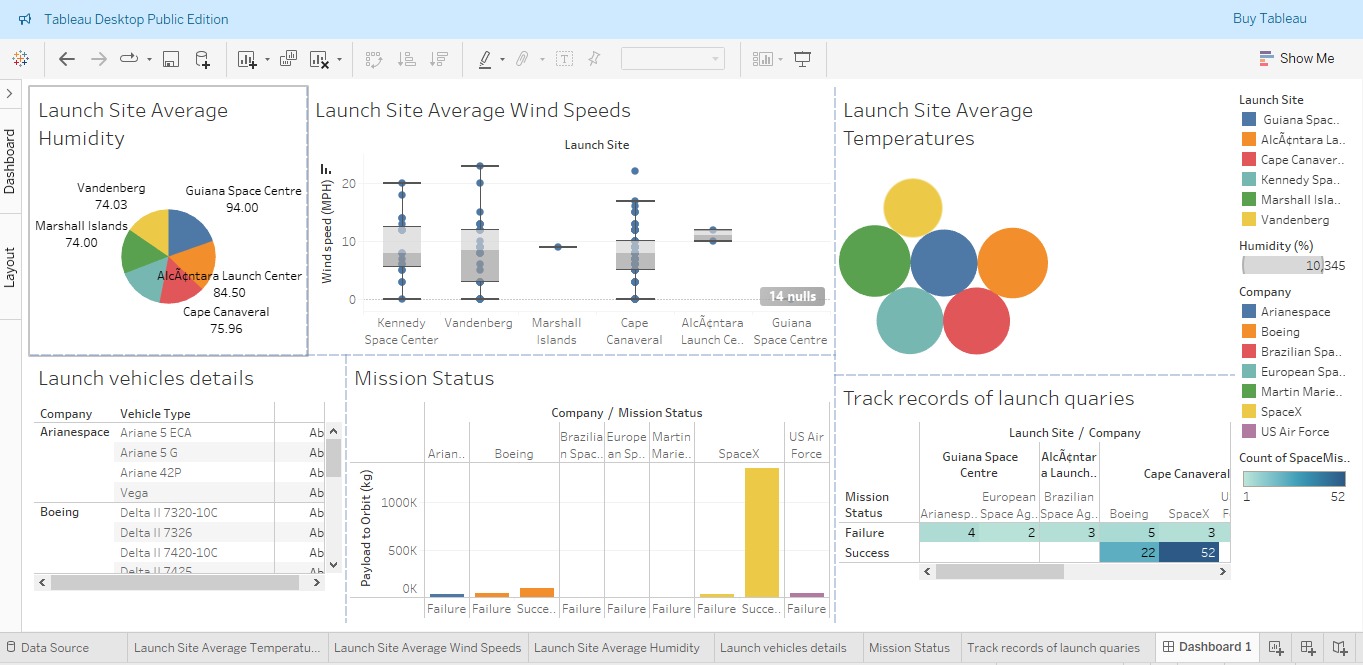

The dashboard page shown, as its layout file describes it:
{"tool":"tableau","page":{"name":"Dashboard 1","canvas":[1000,1000],"units":"permille","ordinal":0},"visuals":[{"type":"worksheet","title":"Launch Site Average Humidity","mark":"Pie","box":[6.9,14.5,202.7,485.5]},{"type":"worksheet","title":"Launch Site Average Wind Speeds","mark":"Circle","rows":["Wind speed (MPH)"],"cols":["Launch Site"],"box":[209.6,14.5,386.9,485.5]},{"type":"worksheet","title":"Launch Site Average Temperatures","mark":"Circle","box":[596.5,14.5,293.5,521.7]},{"type":"legend","title":"Launch Site Average Temperatures","param":"[federated.0eq0mo61h1ou6v16189ty0sahoex].[none:Launch Site:nk]","box":[890,14.5,103,264.5]},{"type":"legend","title":"Launch Site Average Humidity","param":"[federated.0eq0mo61h1ou6v16189ty0sahoex].[sum:Humidity (%):qk]","box":[890,279,103,83.3]},{"type":"legend","title":"Mission Status","param":"[federated.0eq0mo61h1ou6v16189ty0sahoex].[none:Company:nk]","box":[890,362.3,103,300.7]},{"type":"worksheet","title":"Launch vehicles details ","mark":"Automatic","rows":["Company","Vehicle Type"],"box":[6.9,500,231.9,485.5]},{"type":"worksheet","title":"Mission Status","mark":"Automatic","rows":["Payload to Orbit (kg)"],"cols":["Company","Mission Status"],"box":[238.8,500,357.7,485.5]},{"type":"worksheet","title":"Track records of launch quaries","mark":"Square","rows":["Mission Status"],"cols":["Launch Site","Company"],"box":[596.5,536.2,293.5,449.3]},{"type":"legend","title":"Track records of launch quaries","param":"[federated.0eq0mo61h1ou6v16189ty0sahoex].[__tableau_internal_object_id__].[cnt:S","box":[890,663,103,117.8]}]}

Visuals, with their boxes on the dashboard's canvas, which has no fixed pixel size, in thousandths of its width and height (x1, y1, x2, y2). These are canvas units, not pixel positions in the 1363x665 screenshot, which may show the page scaled, cropped or inside an application window:
"Launch Site Average Humidity" worksheet (Pie marks): left=7, top=14, right=210, bottom=500
"Launch Site Average Wind Speeds" worksheet (Circle marks): left=210, top=14, right=596, bottom=500
"Launch Site Average Temperatures" worksheet (Circle marks): left=596, top=14, right=890, bottom=536
"Launch Site Average Temperatures" legend: left=890, top=14, right=993, bottom=279
"Launch Site Average Humidity" legend: left=890, top=279, right=993, bottom=362
"Mission Status" legend: left=890, top=362, right=993, bottom=663
"Launch vehicles details " worksheet: left=7, top=500, right=239, bottom=986
"Mission Status" worksheet: left=239, top=500, right=596, bottom=986
"Track records of launch quaries" worksheet (Square marks): left=596, top=536, right=890, bottom=986
"Track records of launch quaries" legend: left=890, top=663, right=993, bottom=781
